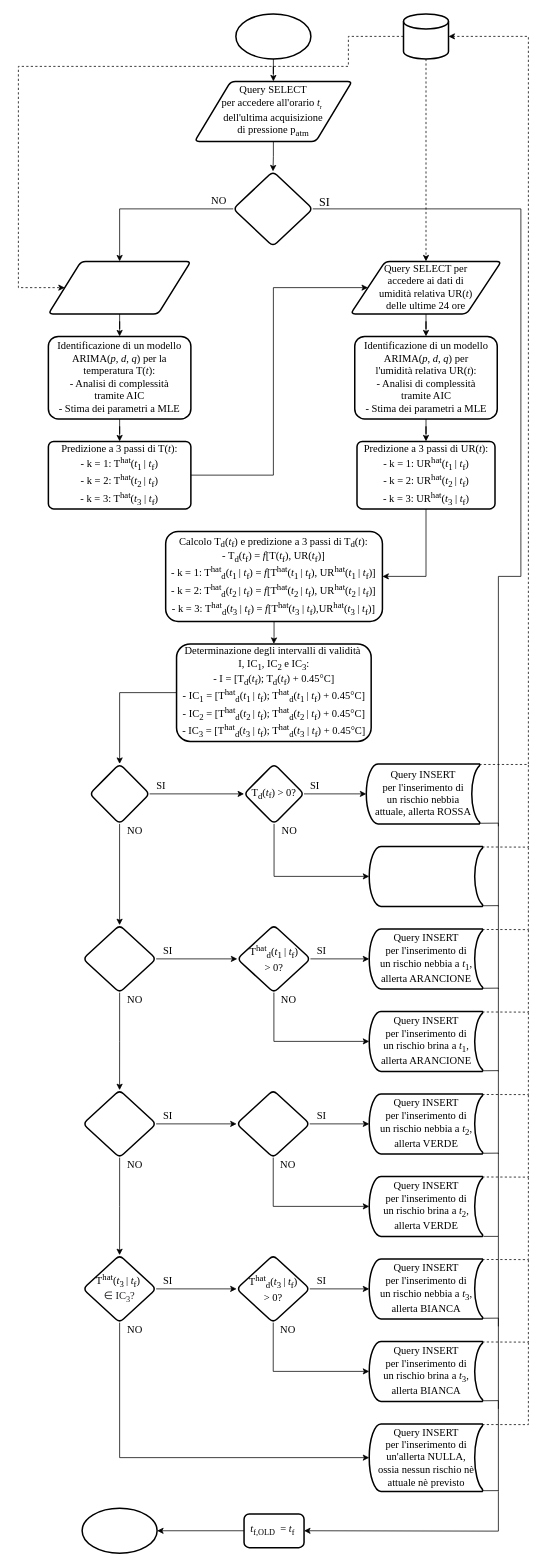
Some shapes in this 548 by 1567 pixel diagram are drawn without their labels. Each missing label, with the box of its shape:
DB: (402, 13, 449, 59)
FINE: (81, 1507, 158, 1554)
INIZIO: (235, 13, 311, 59)
Query INSERT per l'inserimento di un rischio brina attuale, allerta ROSSA: (368, 845, 483, 907)
Query SELECT per accedere ai dati di temperatura T( t ) delle ultime 24 ore: (47, 260, 191, 314)
T ( t f ) ∈ I?: (88, 763, 150, 824)
T hat ( t 1 | t f ) ∈ IC 1 ?: (82, 924, 157, 993)
T hat ( t 2 | t f ) ∈ IC 2 ?: (82, 1089, 157, 1158)
T hat d ( t 2 | t f ) > 0?: (236, 1089, 310, 1158)
t r = t f,OLD ?: (232, 170, 313, 247)
